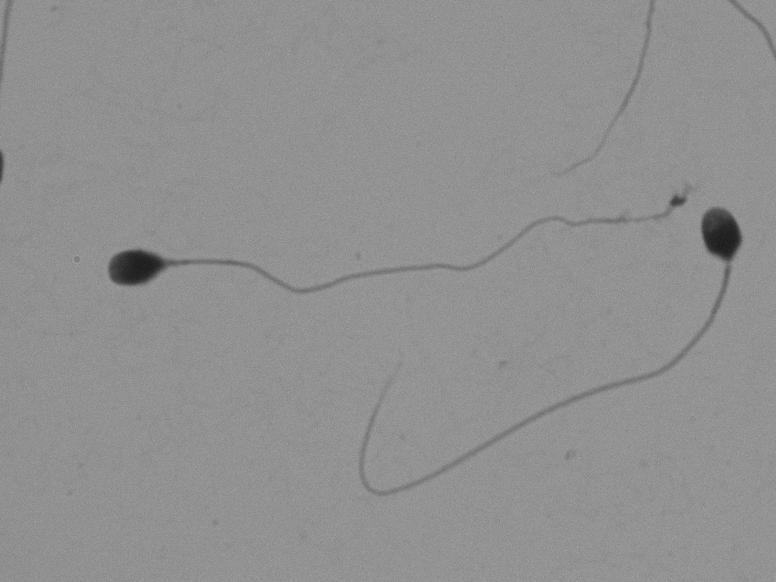Normal: (342, 195, 766, 508), (62, 157, 683, 326)
